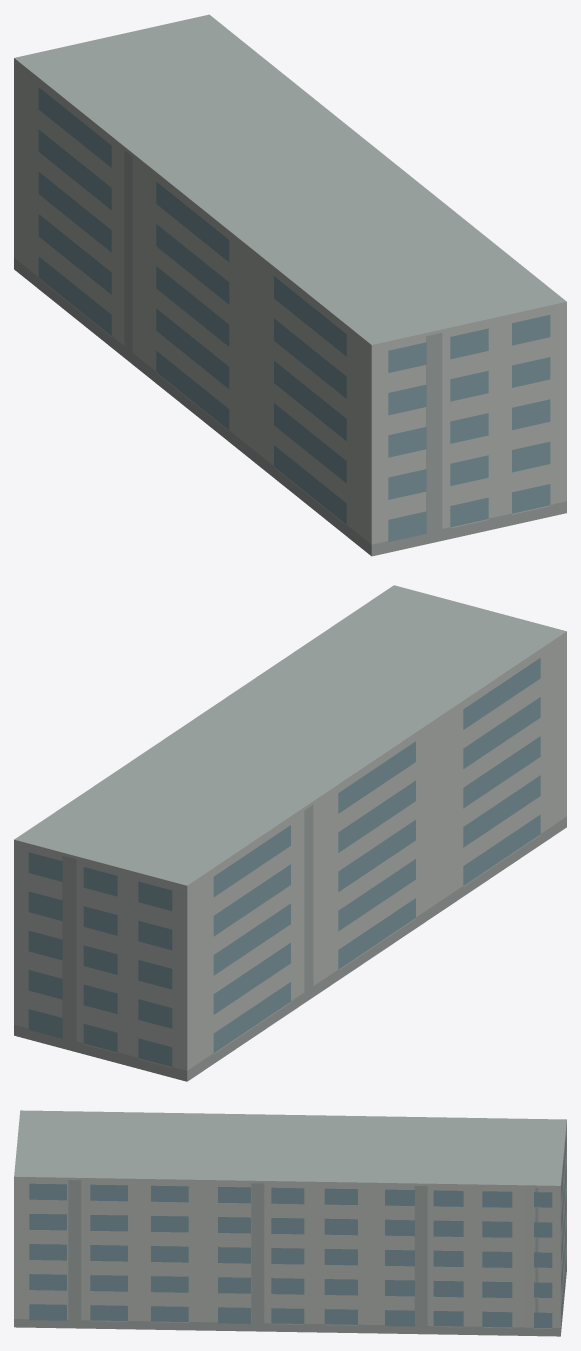
The model's file is residential-93e7d0e2-9515-4837-8d0e-3840d06089f6.glb.
The picture shows the model from 3 angles, top to bottom: view 1: azimuth 30°, elevation 25°; view 2: azimuth 150°, elevation 25°; view 3: azimuth 270°, elevation 25°; orthographic projection. The views are drawn at different scales.
Visible parts, largest first — view 1: residential-93e7d0e2-9515-4837-8d0e-3840d06089f6.tmp; view 2: residential-93e7d0e2-9515-4837-8d0e-3840d06089f6.tmp; view 3: residential-93e7d0e2-9515-4837-8d0e-3840d06089f6.tmp.
Part boxes in pixels (<box>): residential-93e7d0e2-9515-4837-8d0e-3840d06089f6.tmp: <box>14,14,566,556</box>; residential-93e7d0e2-9515-4837-8d0e-3840d06089f6.tmp: <box>14,585,566,1081</box>; residential-93e7d0e2-9515-4837-8d0e-3840d06089f6.tmp: <box>14,1110,566,1336</box>.
Size of the model in its own units: 16.39 by 15.25 by 50.74.
